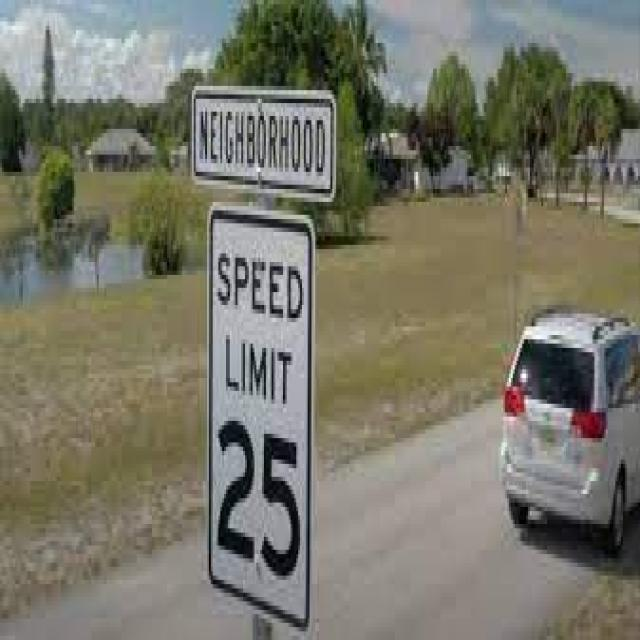speedLimit25: (202, 204, 314, 625)
